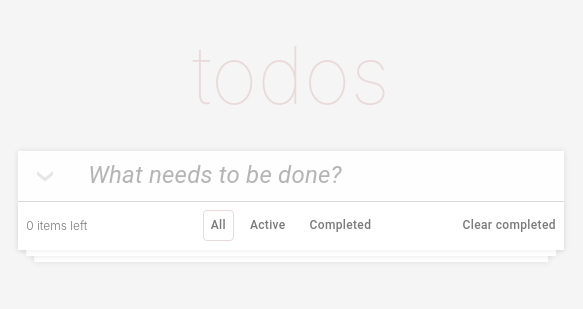
Test: To-Do App › allows users to add a task
Type "New Task" into the field with placeholder "What needs to be done?" at (326, 176), box [88,154,564,197]
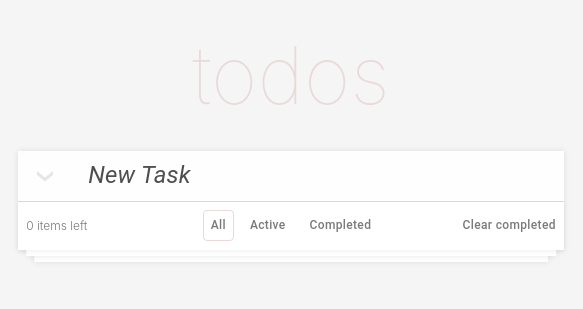
Click the button with test id "add-task" at (45, 176), box [18,150,72,200]
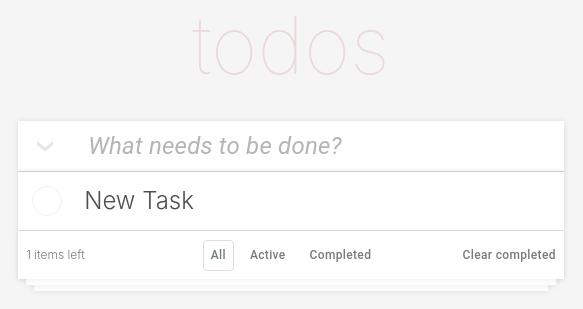
Expected: the text "New Task" is shown, [84,183,194,219]
